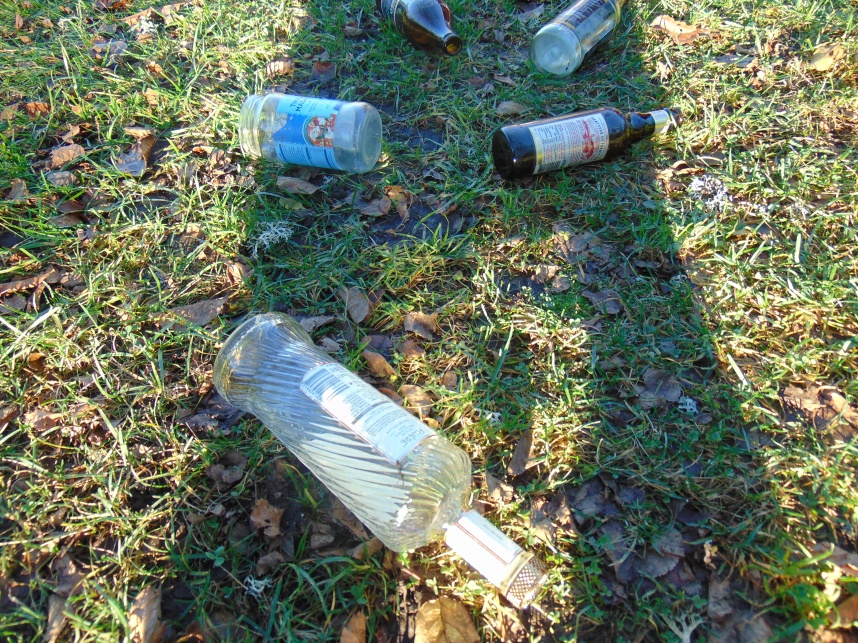glass_bottle: (213, 309, 552, 612), (493, 100, 675, 178), (236, 88, 391, 172), (529, 1, 622, 75), (381, 1, 465, 61)
